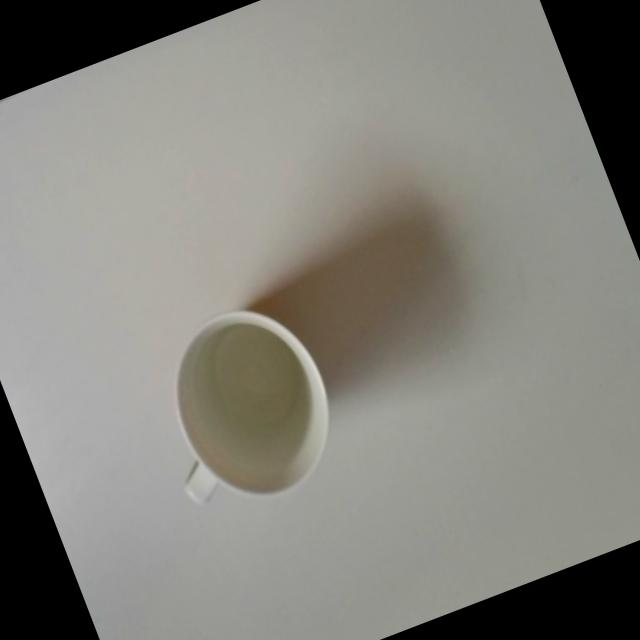Halloween cup: (134, 286, 356, 522)
